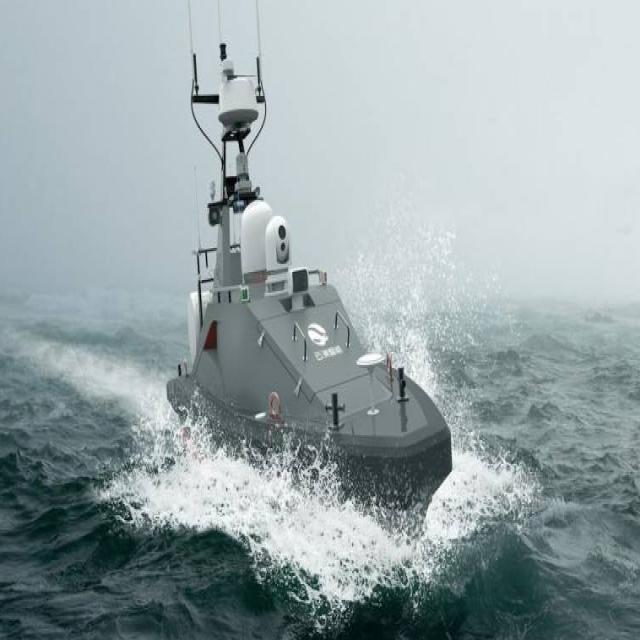navalvessels: (165, 10, 456, 534)
